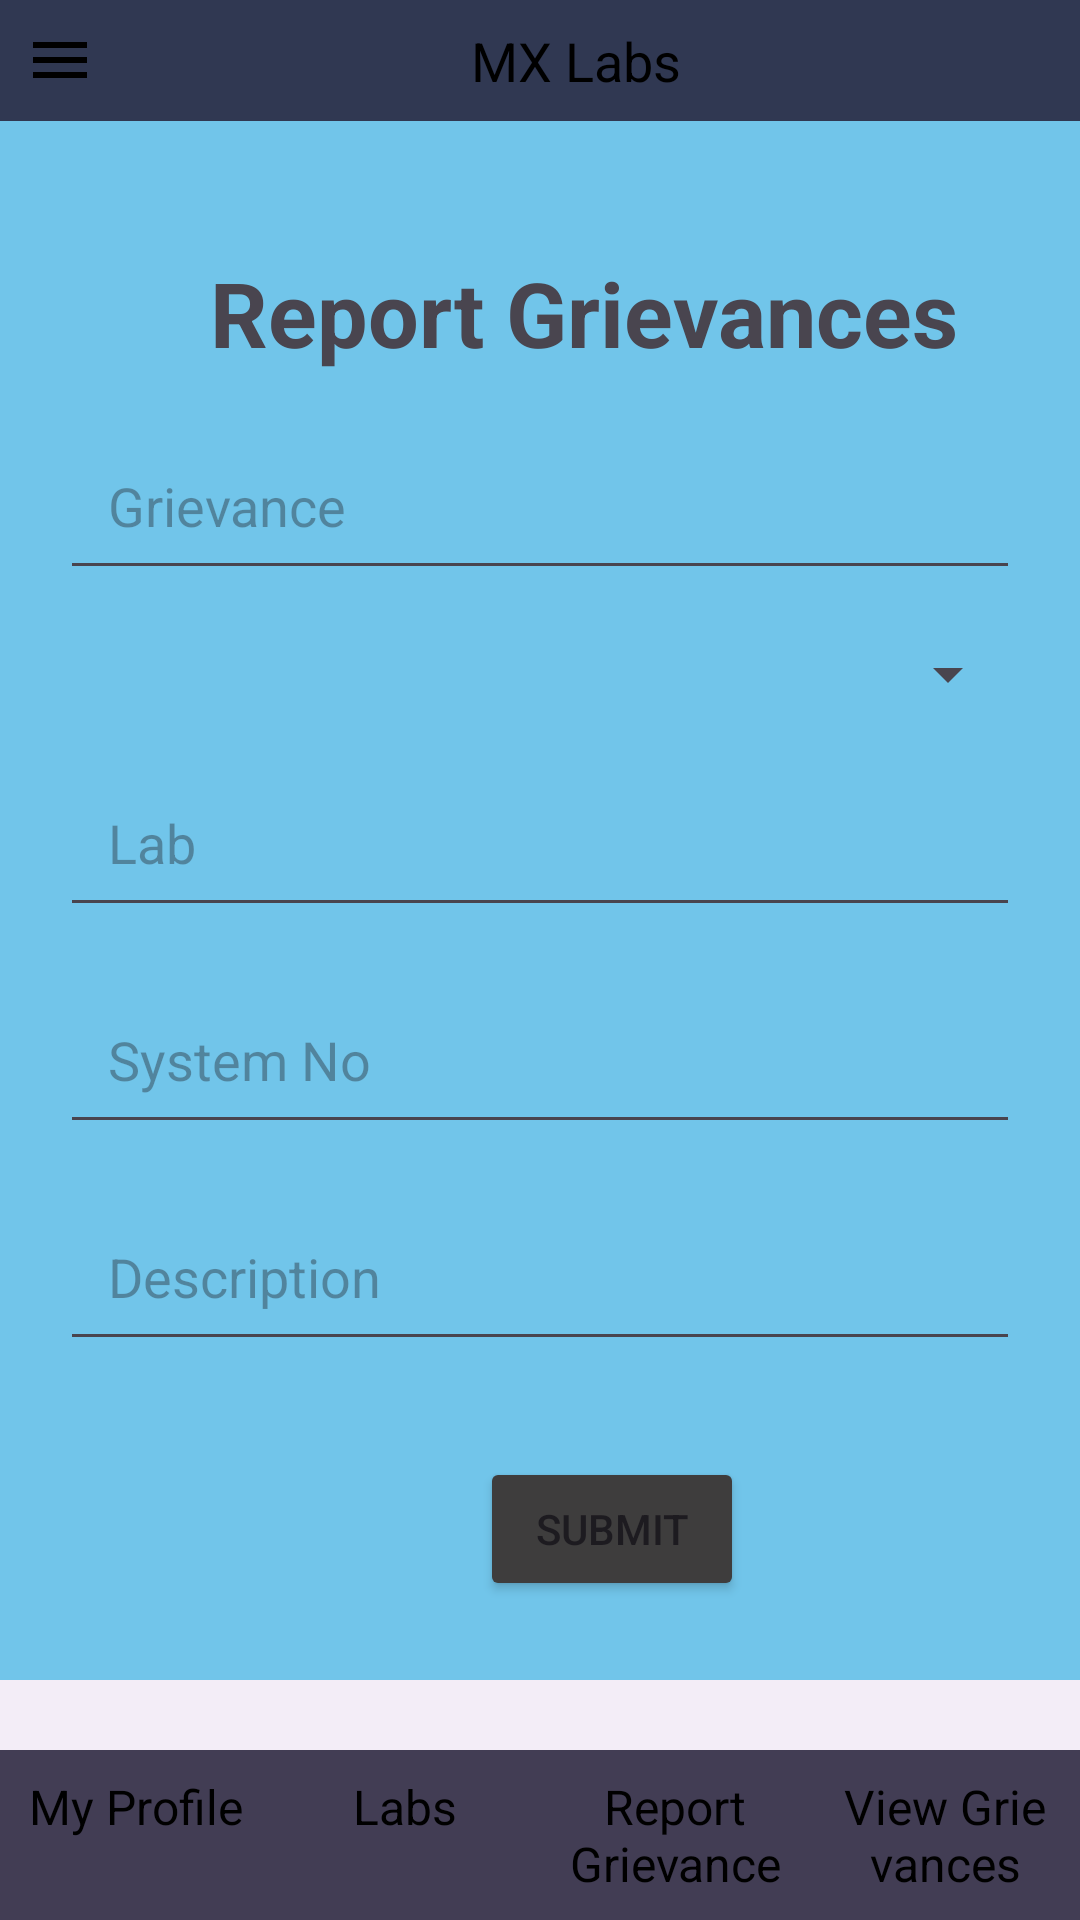

Icons on this 1080px x 1920px Android screen, each with the point to tap as (x=x, y=y):
menu: (x=60, y=60)
